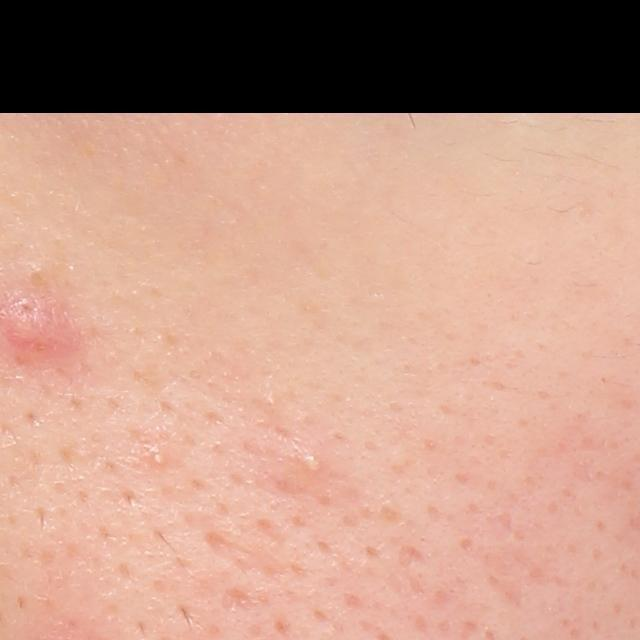atrophic_scar: (203, 531, 298, 580), (215, 586, 255, 620)
pustule: (294, 448, 325, 484)
